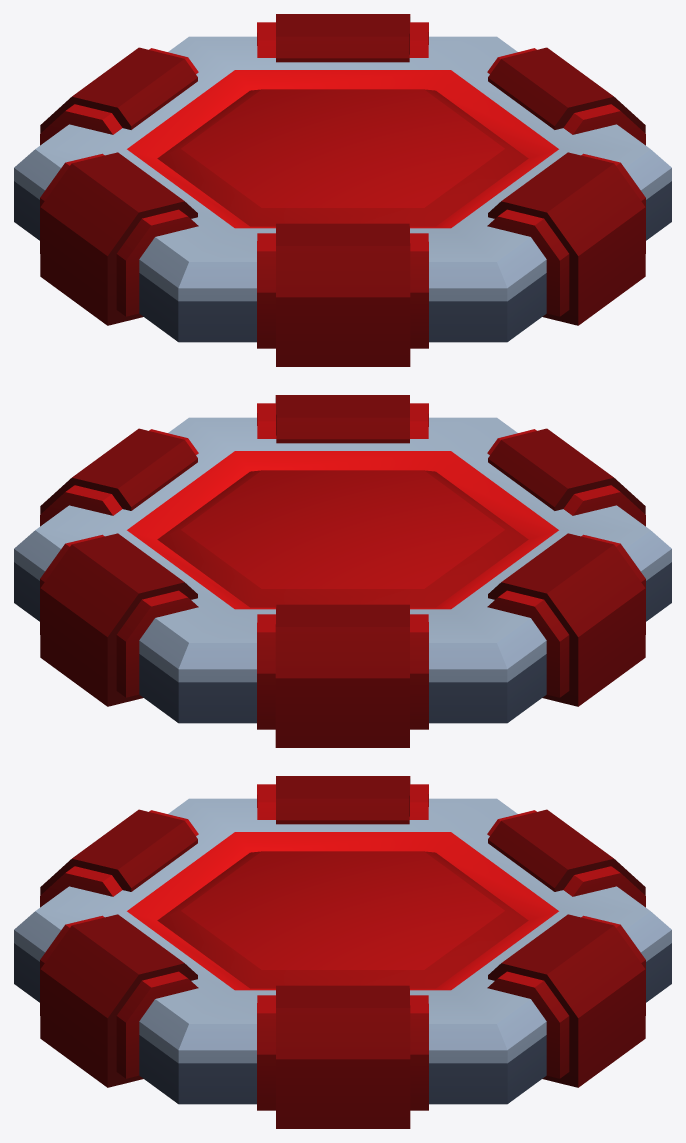
Rendered from Hexagon 10.FBX.
3 renders of one model, top to bottom at view 1: azimuth 30°, elevation 25°; view 2: azimuth 150°, elevation 25°; view 3: azimuth 270°, elevation 25°, orthographic.
Parts seen in each view (by area): view 1: Hexagon 10; view 2: Hexagon 10; view 3: Hexagon 10.
Boxes of the visible parts, left/top/right/bottom form: Hexagon 10: left=14, top=14, right=671, bottom=366; Hexagon 10: left=14, top=395, right=671, bottom=747; Hexagon 10: left=14, top=776, right=671, bottom=1128.
Bounding box in the file's own units: 305 × 57.3 × 323.
Materials: 1 (1 with a texture image).
